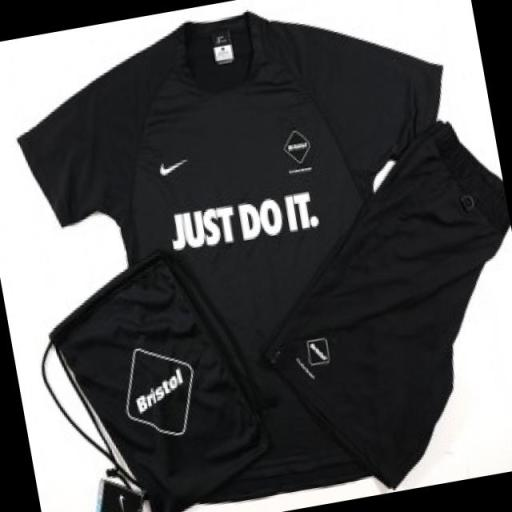Nike: (150, 152, 195, 179)
